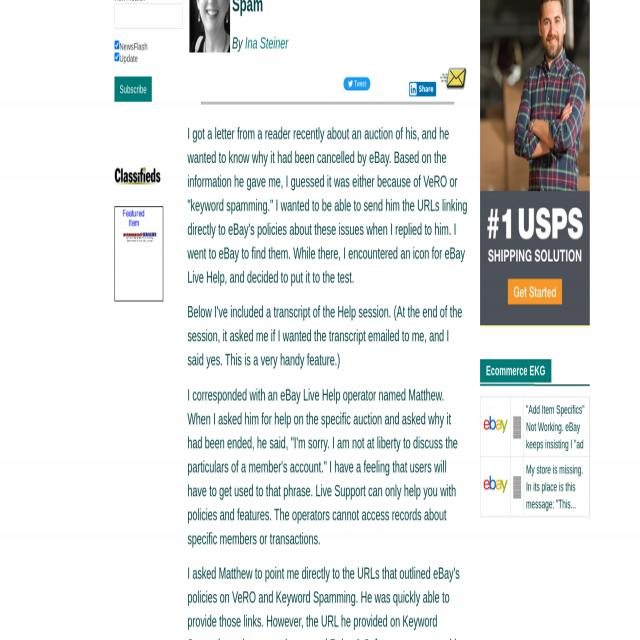button: (480, 0, 590, 326), (115, 206, 163, 302), (190, 0, 230, 52), (480, 357, 551, 382), (114, 76, 152, 102), (114, 167, 161, 184), (438, 66, 468, 92), (482, 413, 509, 436), (482, 473, 509, 496), (343, 76, 371, 91), (409, 81, 436, 96)
field: (114, 4, 182, 30), (114, 40, 148, 50), (114, 52, 140, 62)
